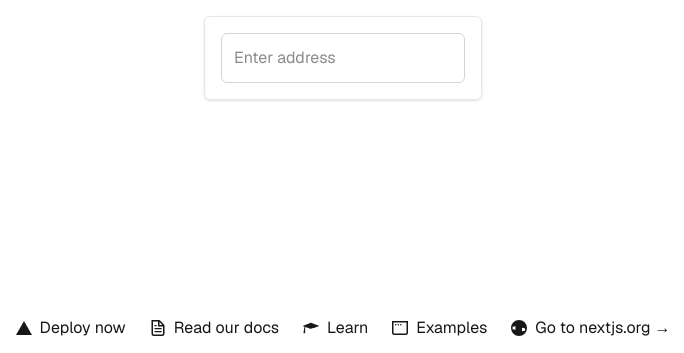
Test: Enter Address & Receive Instant Estimate › fetches address suggestions as user types
Type "2323 E Highland Ave" into the field with placeholder "Enter address" at coordinates (343, 58), box [221,33,465,83]
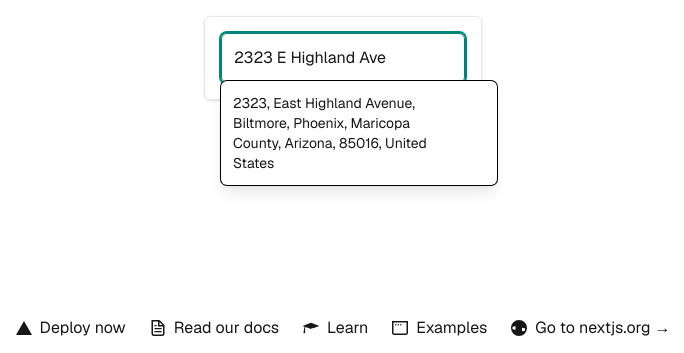
Result: the list shows "2323, East Highland Avenue, Biltmore, Phoenix, Maricopa County, Arizona, 85016, United States" at [221,81,497,185]
